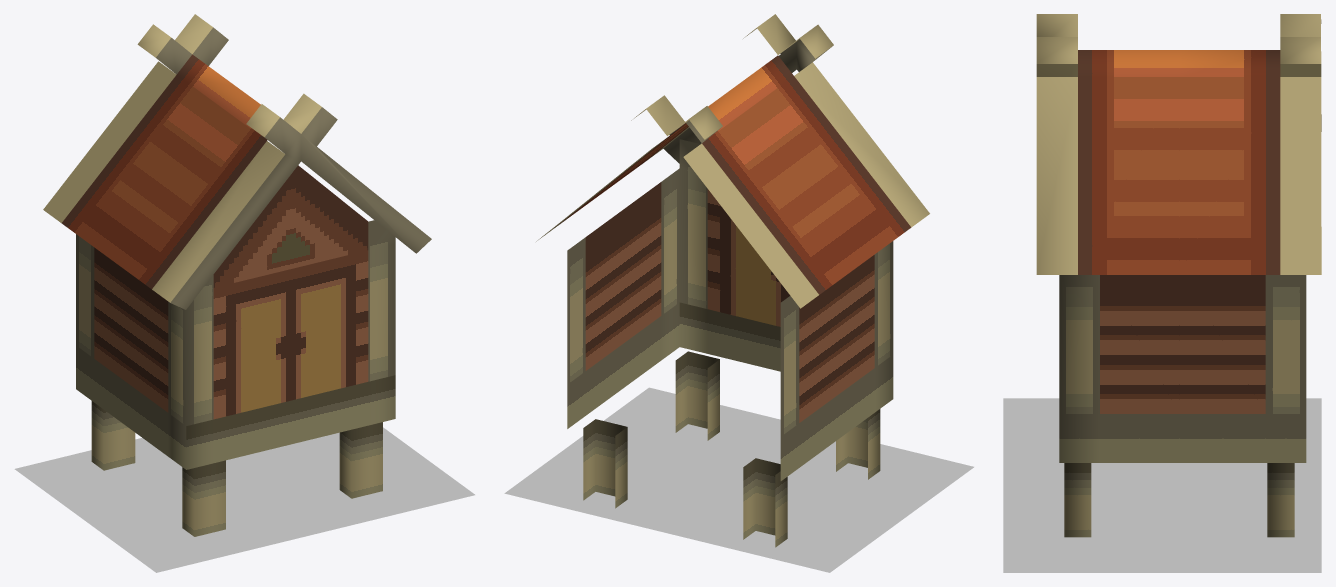
File: d19_shirne01.dae
3 views of the same model, side by side, from view 1: azimuth 30°, elevation 25°; view 2: azimuth 150°, elevation 25°; view 3: azimuth 270°, elevation 25° (orthographic). The views are drawn at different scales.
Parts seen in each view (by area): view 1: d19_shirne01; view 2: d19_shirne01; view 3: d19_shirne01.
Part boxes in pixels (x1,y1,x2,y2): d19_shirne01: (14,14,474,572); d19_shirne01: (504,14,973,572); d19_shirne01: (1003,14,1321,572).
Bounding box in the file's own units: 46.97 × 57.76 × 36.19.
